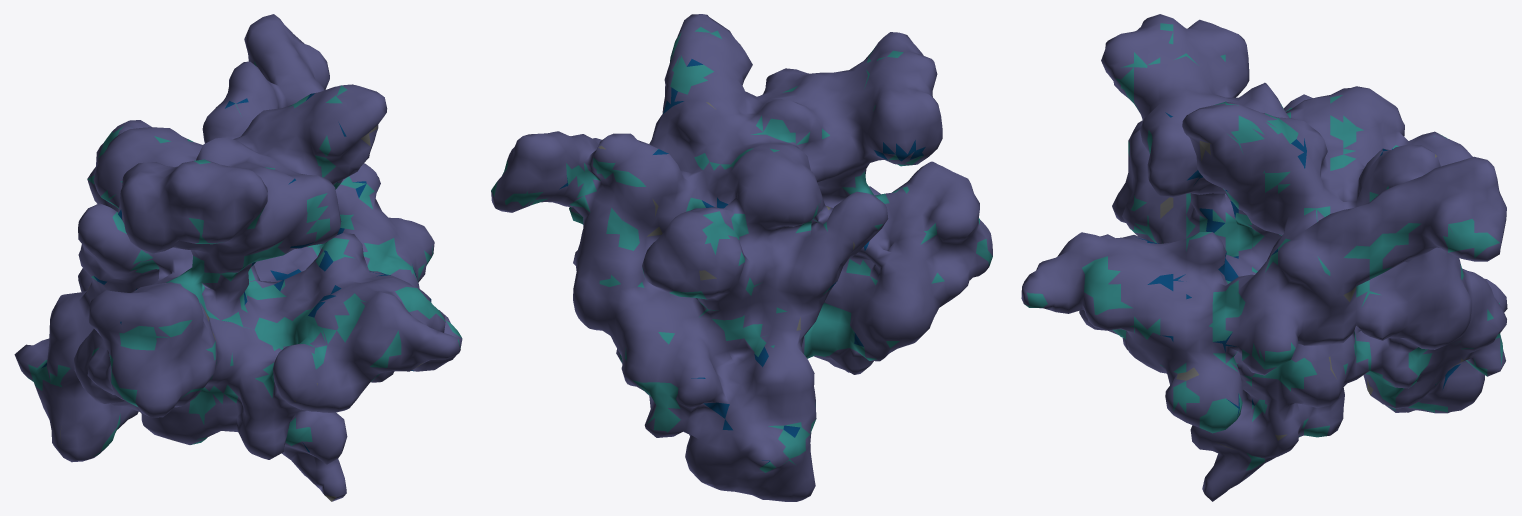
The model's file is rna_polymerase.obj.
3 views of the same model, side by side, from view 1: azimuth 30°, elevation 25°; view 2: azimuth 150°, elevation 25°; view 3: azimuth 270°, elevation 25° (orthographic). The views are drawn at different scales.
Parts seen in each view (by area): view 1: vmd_mol0_rep0; view 2: vmd_mol0_rep0; view 3: vmd_mol0_rep0.
Part boxes in pixels (bbox=[...]): vmd_mol0_rep0: bbox=[14, 14, 462, 501]; vmd_mol0_rep0: bbox=[491, 14, 992, 501]; vmd_mol0_rep0: bbox=[1021, 14, 1507, 501].
Size of the model in its own units: 1.35 by 1.36 by 1.48.
